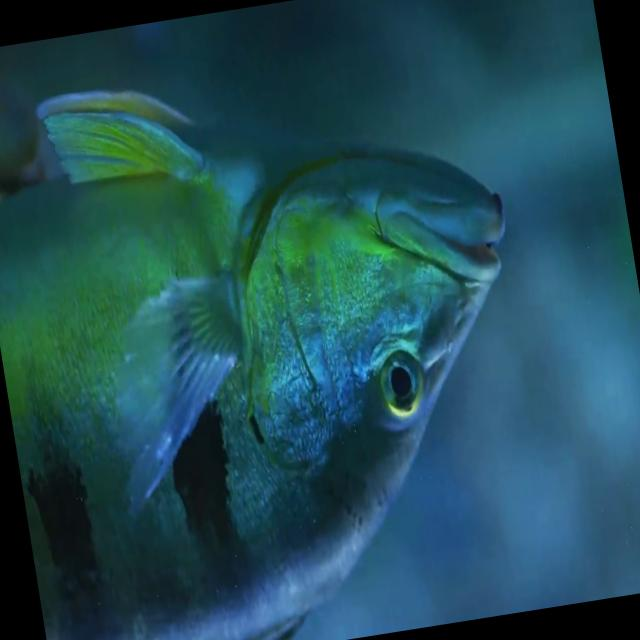fish: (0, 30, 569, 640)
